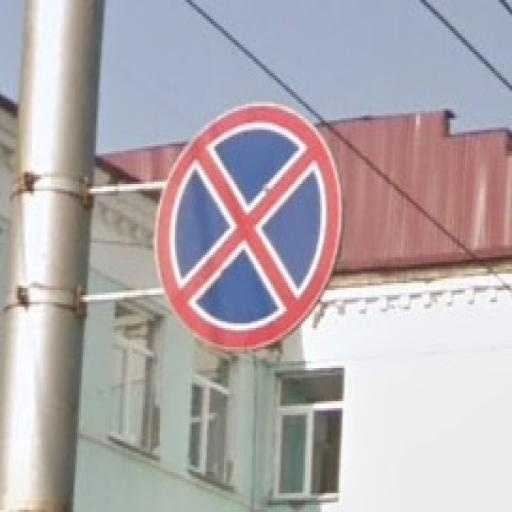traffic_sign: (155, 103, 342, 353)
